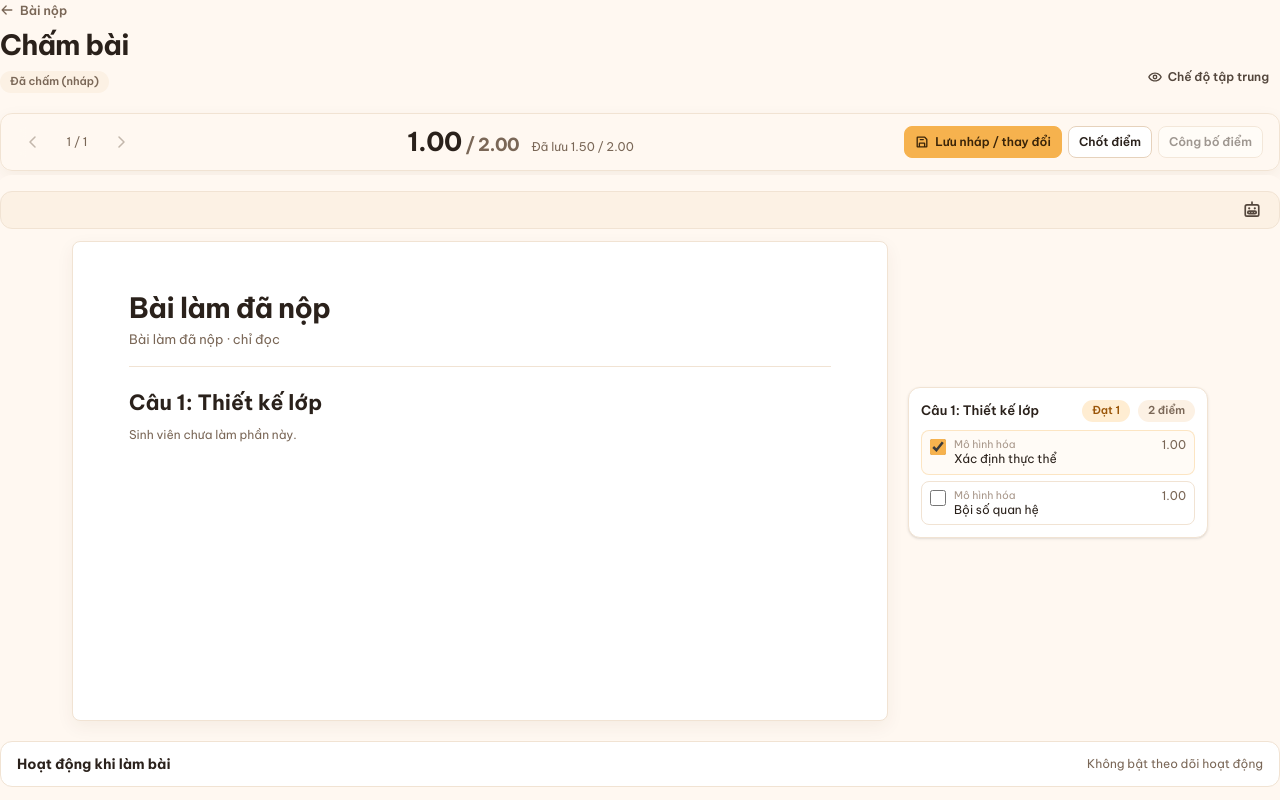
it: Structured Grading Feedback — Teacher Workspace & Student View › renders AI structured feedback preview with block anchors, plain-text fallback for missing blocks, optional full-mark advice, and review flags
Click the button named "Chấm bằng AI": x=1252, y=210 [1237,196,1267,224]
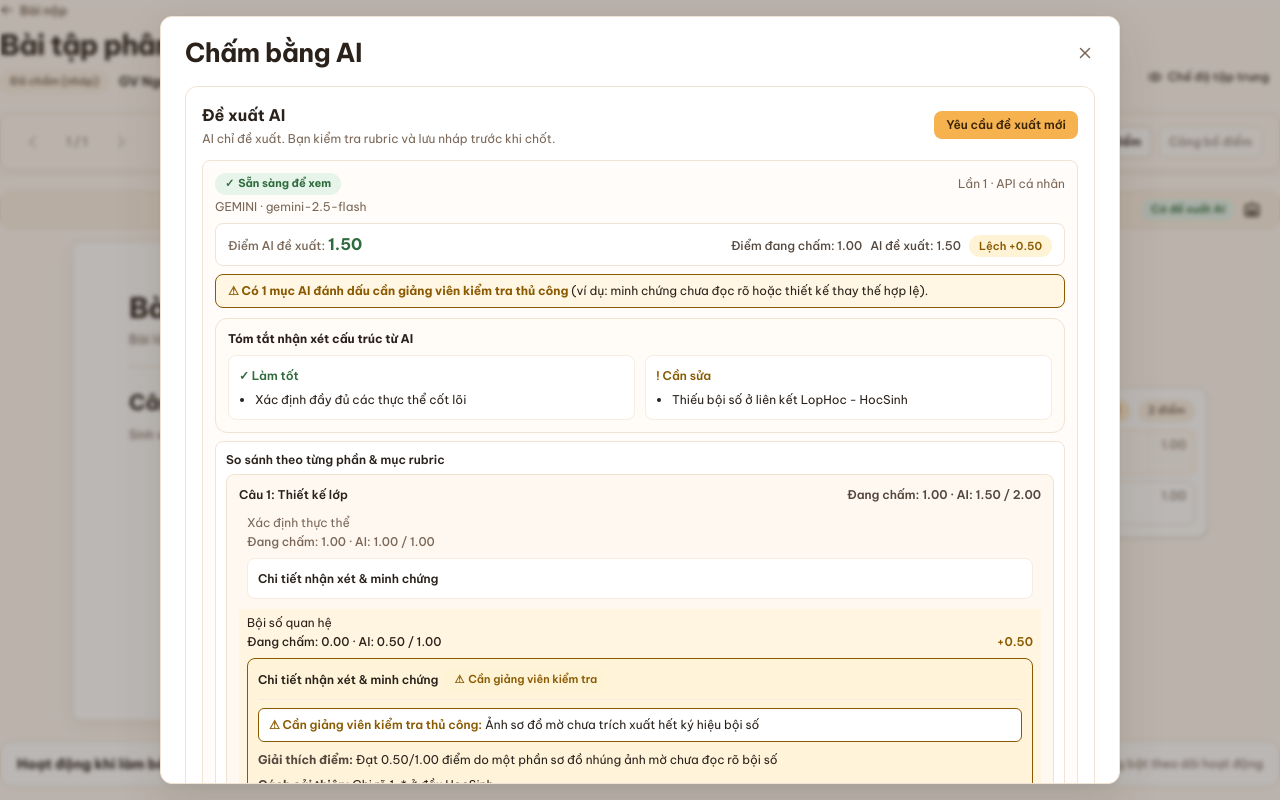
Check: the heading "Tóm tắt nhận xét cấu trúc từ AI" is shown, box [228,331,413,347]
Check: the list item "Xác định đầy đủ các thực thể cốt lõi" is shown, box [255,392,466,406]
Check: the list item "Thiếu bội số ở liên kết LopHoc - HocSinh" is shown, box [672,392,908,406]
